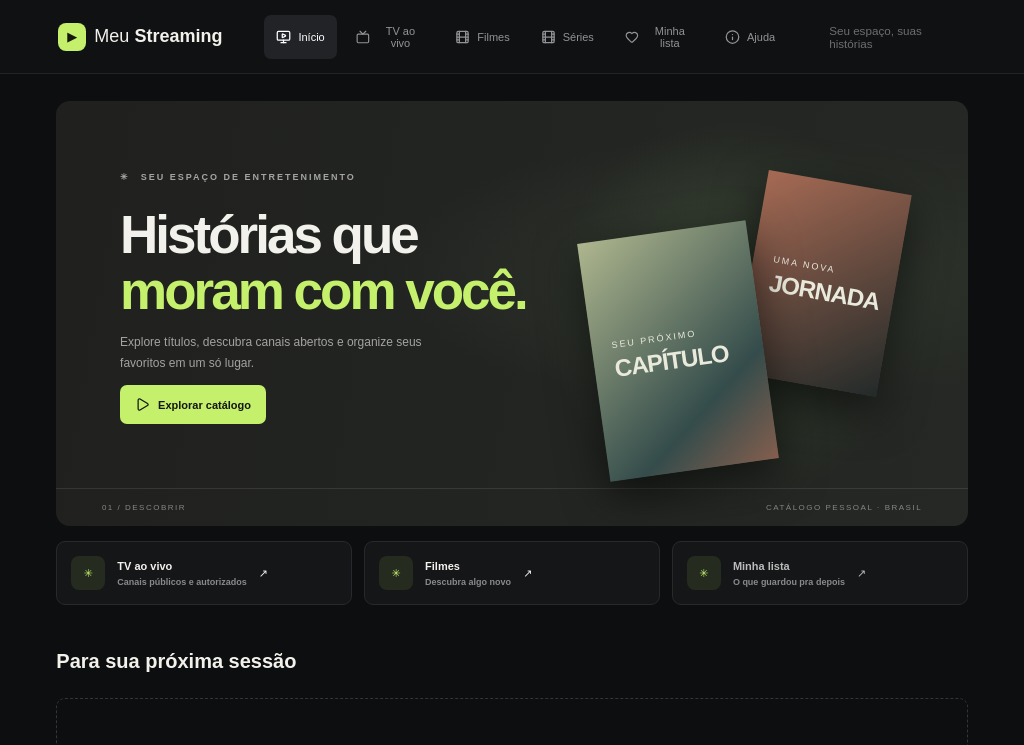
Test: interface › navega para canais e mostra estado sem stream aprovado
The width and height of the screenshot is (1024, 745).
Click the button "TV ao vivo" at x=390, y=36, box [344,14,436,58]
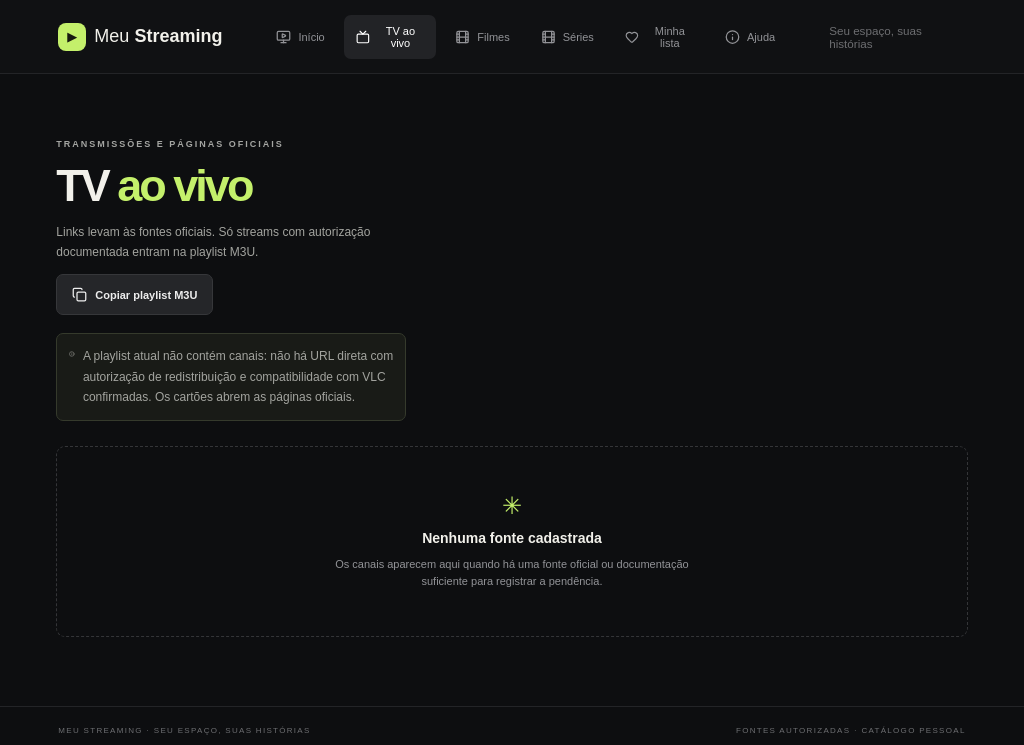
Result: the text "Nenhuma fonte cadastrada" is shown at [422,530,602,546]
Result: the text "Copiar playlist M3U" is shown at [56,274,213,316]
